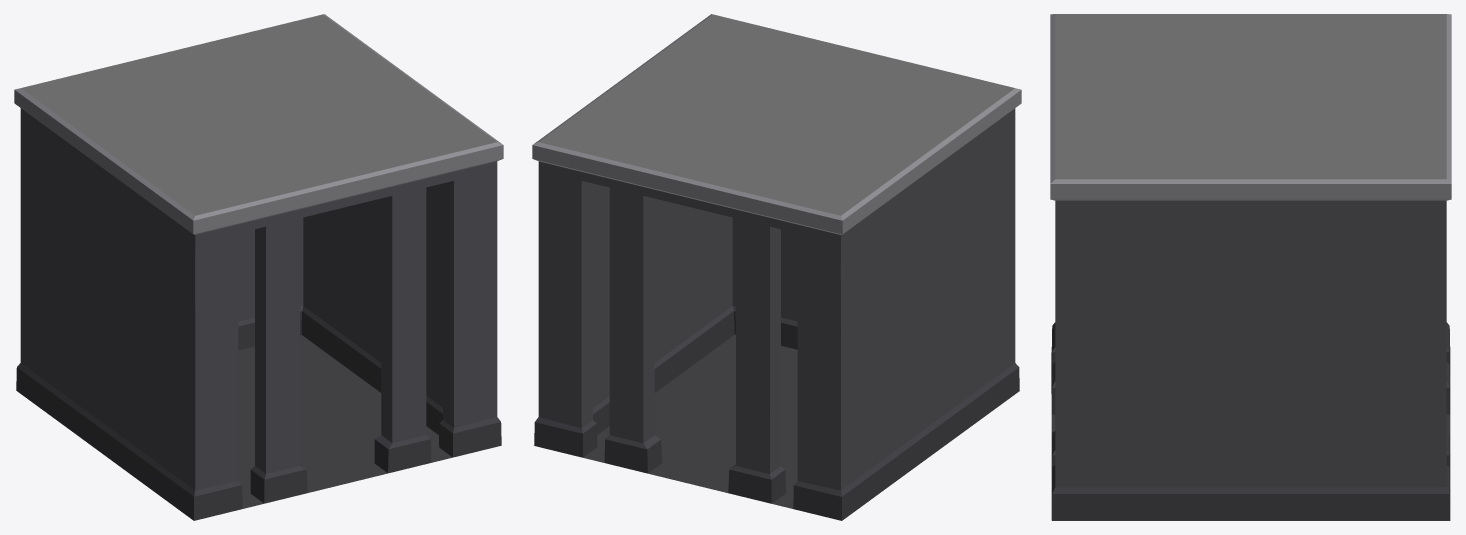
The model's file is SM_Bld_Section_Door_03_modifed_color.fbx.
The picture shows the model from 3 angles, left to right: view 1: azimuth 30°, elevation 25°; view 2: azimuth 150°, elevation 25°; view 3: azimuth 270°, elevation 25°; orthographic projection. The views are drawn at different scales.
Visible parts, largest first — view 1: SM_Bld_Section_Door_03, SM_Bld_Section_Door_03.001; view 2: SM_Bld_Section_Door_03, SM_Bld_Section_Door_03.001; view 3: SM_Bld_Section_Door_03, SM_Bld_Section_Door_03.001.
Boxes of the visible parts, box(x1,y1,x2,y2) form: SM_Bld_Section_Door_03: box(14, 14, 503, 520); SM_Bld_Section_Door_03.001: box(16, 217, 303, 381); SM_Bld_Section_Door_03: box(533, 14, 1021, 520); SM_Bld_Section_Door_03.001: box(532, 142, 842, 520); SM_Bld_Section_Door_03: box(1050, 14, 1451, 520); SM_Bld_Section_Door_03.001: box(1446, 14, 1451, 514).
Bounding box in the file's own units: 513 × 480 × 513.
